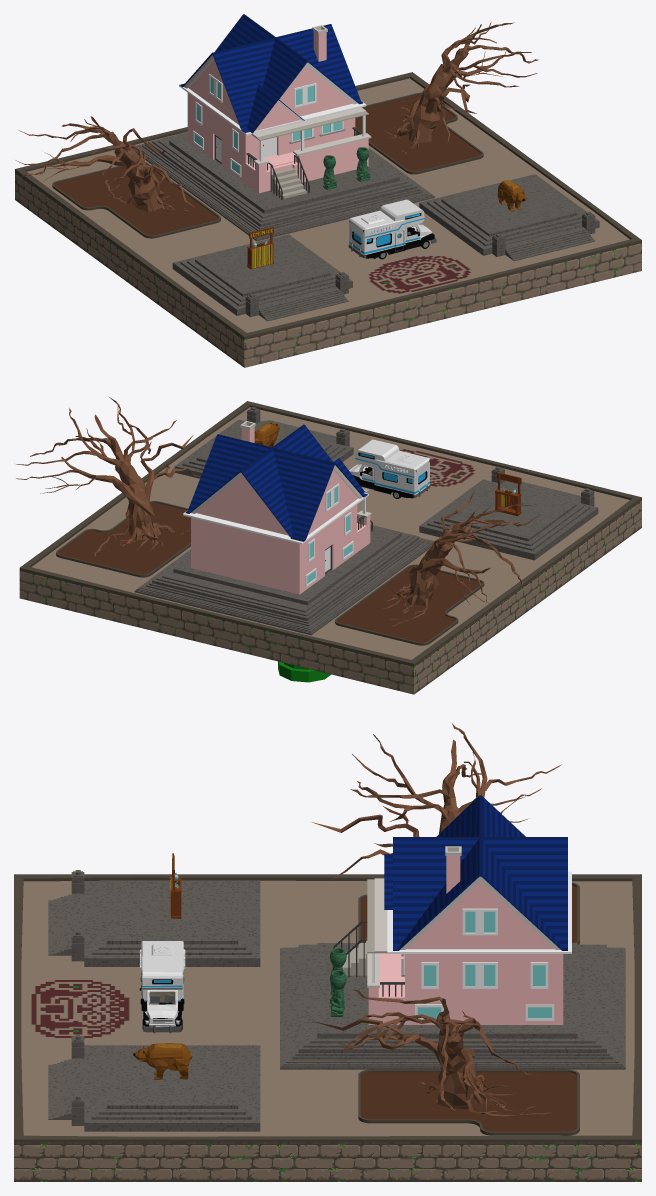
3 views of the same model, one above another, from view 1: azimuth 30°, elevation 25°; view 2: azimuth 150°, elevation 25°; view 3: azimuth 270°, elevation 25° (orthographic). The views are drawn at different scales.
Parts seen in each view (by area): view 1: Cube.011, Cube.313, VEHICLES_CAMPER, OBJRANDOM_LEMONADE_STAND, ANIMAL_OSO; view 2: Cube.011, Cube.313, VEHICLES_CAMPER, OBJRANDOM_LEMONADE_STAND, UNDERGROUND_PIPES, ANIMAL_OSO; view 3: Cube.011, Cube.313, VEHICLES_CAMPER, ANIMAL_OSO.
Part boxes in pixels (x1,y1,x2,y2): Cube.011: [15, 22, 641, 367]; Cube.313: [179, 14, 371, 199]; VEHICLES_CAMPER: [348, 199, 436, 259]; OBJRANDOM_LEMONADE_STAND: [247, 226, 273, 269]; ANIMAL_OSO: [497, 180, 526, 211]; Cube.011: [14, 397, 641, 694]; Cube.313: [183, 421, 372, 594]; VEHICLES_CAMPER: [349, 439, 430, 498]; OBJRANDOM_LEMONADE_STAND: [495, 472, 521, 516]; UNDERGROUND_PIPES: [278, 661, 331, 682]; ANIMAL_OSO: [254, 422, 279, 447]; Cube.011: [14, 723, 641, 1181]; Cube.313: [333, 795, 571, 1024]; VEHICLES_CAMPER: [139, 941, 185, 1033]; ANIMAL_OSO: [133, 1043, 192, 1079].
Bounding box in the file's own units: 5099 × 2243 × 4000.
38 materials, 5 textured.
